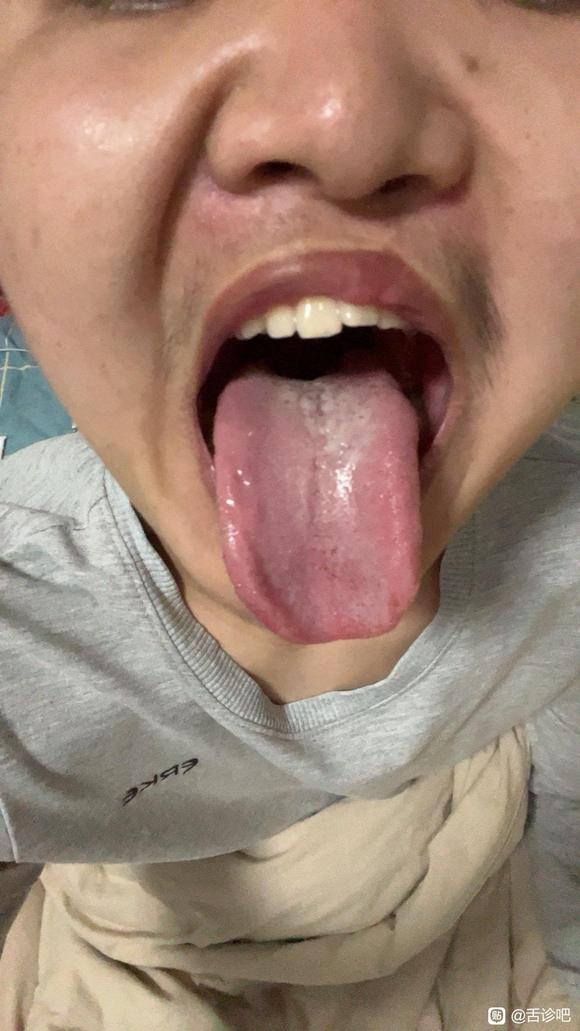baitaishe: (212, 357, 421, 646)
liewenshe: (302, 458, 322, 526)
shenquao: (256, 357, 364, 388)
